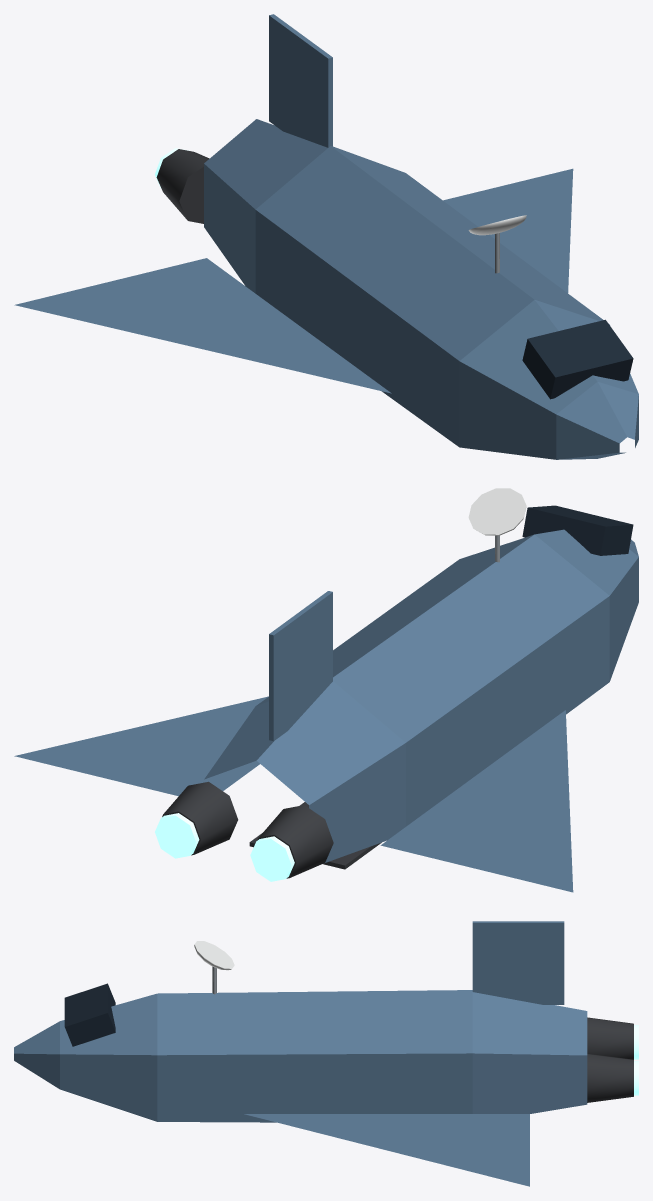
File: space_ship_shuttle_mk5.glb
3 views of the same model, one above another, from view 1: azimuth 30°, elevation 25°; view 2: azimuth 150°, elevation 25°; view 3: azimuth 270°, elevation 25° (orthographic). The views are drawn at different scales.
Parts seen in each view (by area): view 1: body, engine_1, antenna_0; view 2: body, engine_1, engine_0, antenna_0; view 3: body, engine_0, engine_1, antenna_0.
Boxes of the visible parts, x1,y1,x2,y2 form: body: (14, 14, 638, 459); engine_1: (155, 148, 209, 223); antenna_0: (468, 215, 526, 273); body: (14, 505, 638, 892); engine_1: (250, 805, 333, 881); engine_0: (155, 781, 238, 858); antenna_0: (468, 488, 526, 562); body: (14, 921, 587, 1186); engine_0: (587, 1053, 638, 1102); engine_1: (587, 1017, 638, 1059); antenna_0: (194, 941, 234, 994).
Size of what is drawn, in the model's own units: 11.6 by 4.8 by 14.52.
